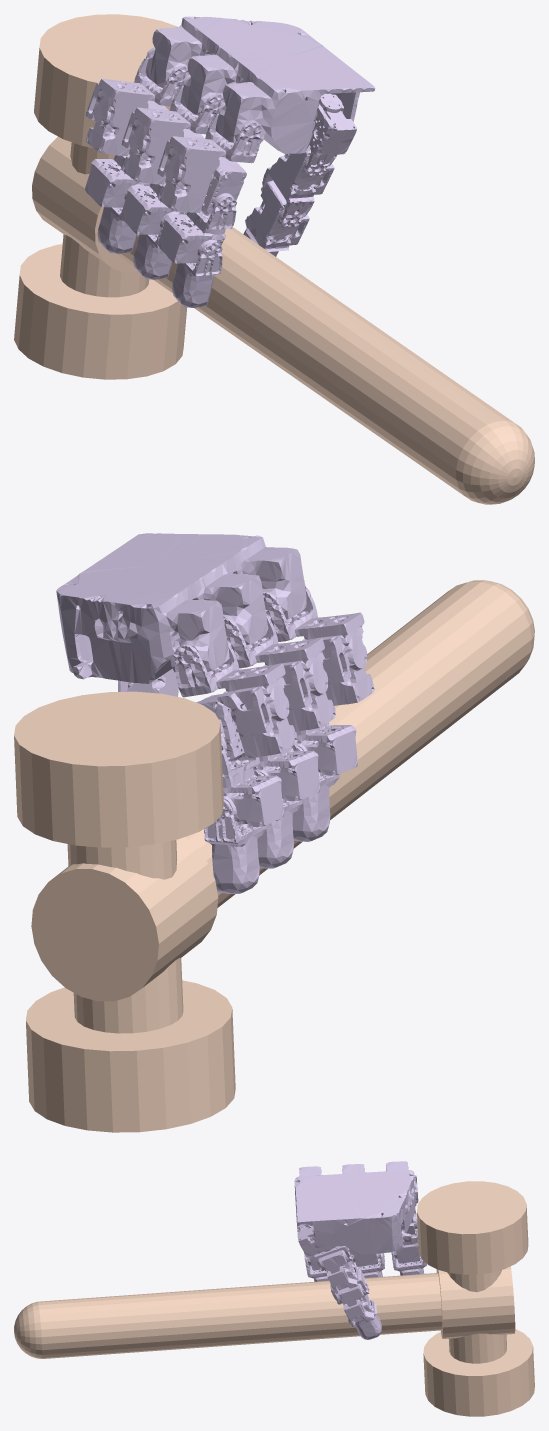
The picture shows the model from 3 angles, top to bottom: view 1: azimuth 30°, elevation 25°; view 2: azimuth 150°, elevation 25°; view 3: azimuth 270°, elevation 25°; orthographic projection. The views are drawn at different scales.
Parts seen in each view (by area): view 1: world, LEAP_hand; view 2: world, LEAP_hand; view 3: world, LEAP_hand.
Part boxes in pixels (x1,y1,x2,y2): world: (14,14,534,504); LEAP_hand: (85,16,375,307); world: (14,580,534,1132); LEAP_hand: (56,533,374,893); world: (14,1181,534,1416); LEAP_hand: (294,1161,426,1339).
Bounding box in the file's own units: 0.161 × 0.2671 × 0.5393.
